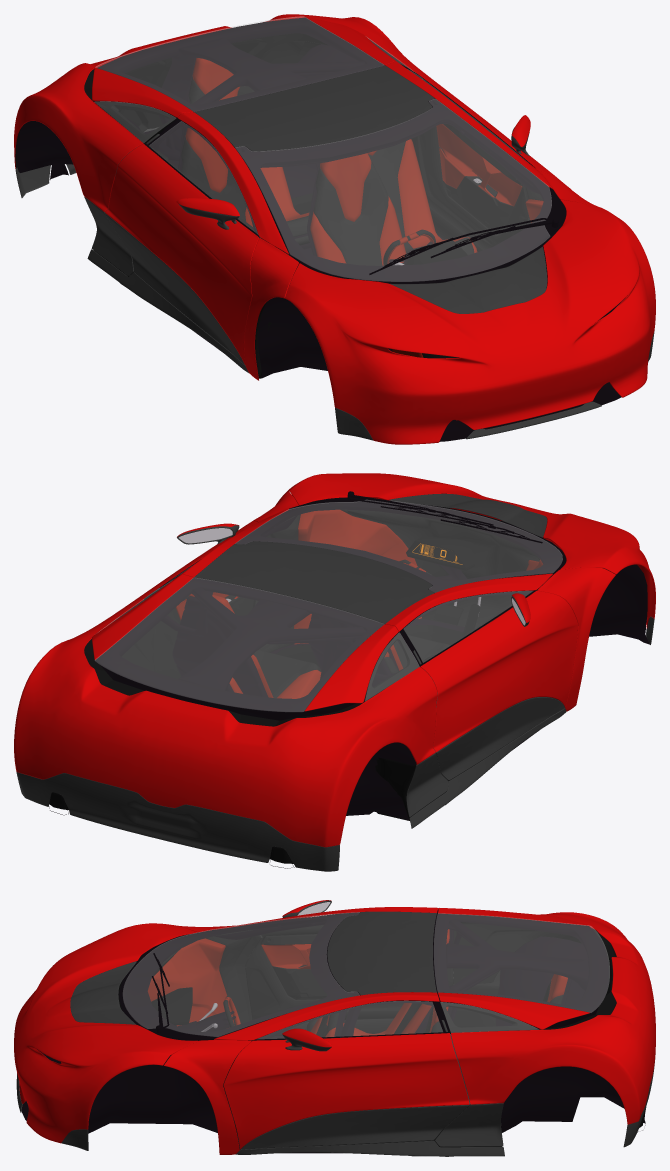
File: cabin_concept.glb
3 renders of one model, top to bottom at view 1: azimuth 30°, elevation 25°; view 2: azimuth 150°, elevation 25°; view 3: azimuth 270°, elevation 25°, orthographic. The views are drawn at different scales.
Parts seen in each view (by area): view 1: cabin, object 5, object 2, object 6, object 3, object 13, object 22, object 7, object 23, object 24, object 4, object 11 (+1 smaller); view 2: cabin, object 5, object 2, object 7, object 3, object 13, object 6, object 4, object 22; view 3: cabin, object 5, object 27, object 2, object 33, object 3, object 15, object 6, object 4, object 16, object 17, steerSpin (+1 smaller).
Part boxes in pixels (x1,y1,x2,y2): cabin: (14,14,655,444); object 5: (95,16,384,111); object 2: (93,17,384,118); object 6: (390,246,547,313); object 3: (15,33,422,209); object 13: (149,121,257,233); object 22: (411,78,529,249); object 7: (105,213,244,364); object 23: (443,124,522,234); object 24: (436,124,522,206); object 4: (95,37,413,142); object 11: (176,198,239,216); cabin: (14,473,655,871); object 5: (95,577,384,711); object 2: (95,578,397,720); object 7: (436,697,564,780); object 3: (49,584,437,863); object 13: (404,591,532,662); object 6: (389,493,547,537); object 4: (98,580,419,700); object 22: (153,527,259,679); cabin: (14,907,655,1156); object 5: (434,913,609,1012); object 27: (241,1105,469,1149); object 2: (433,913,609,1029); object 33: (258,1001,442,1038); object 3: (440,916,644,1127); object 15: (245,925,453,1022); object 6: (70,961,136,1024); object 4: (440,1002,538,1032); object 16: (261,934,327,999); object 17: (261,944,310,968); steerSpin: (196,996,240,1031).
Bounding box in the file's own units: 2.34 × 1.06 × 4.36.
13 materials, 2 textured.
